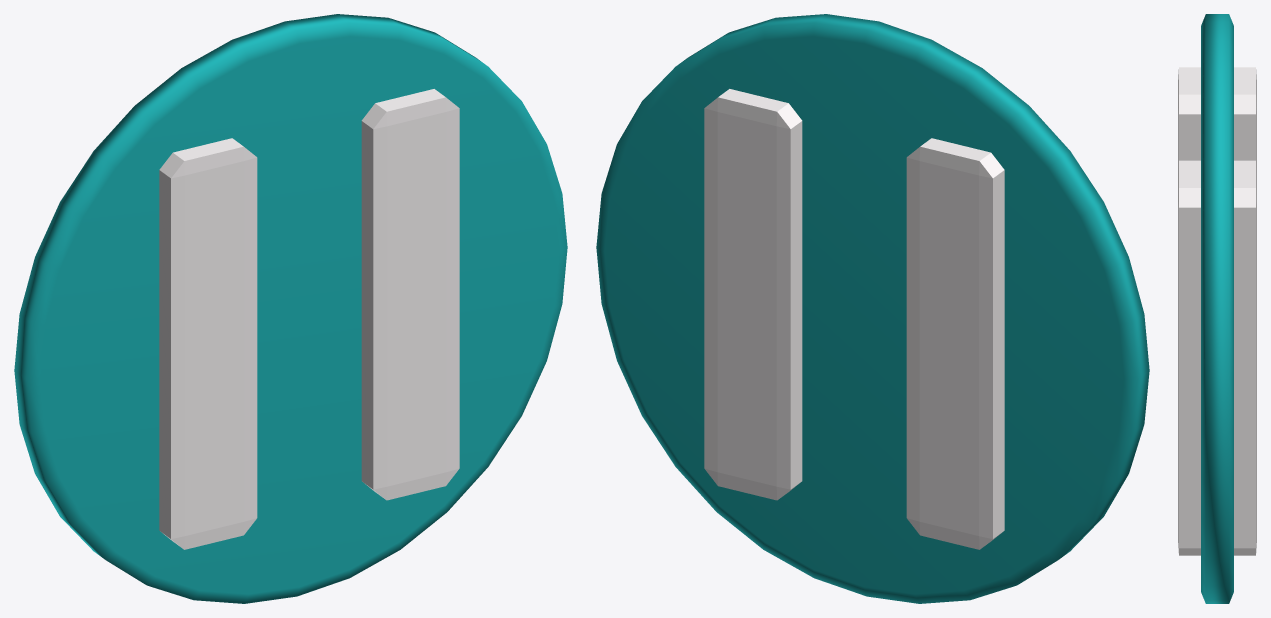
Rendered from Pause.gltf.
3 renders of one model, left to right at view 1: azimuth 30°, elevation 25°; view 2: azimuth 150°, elevation 25°; view 3: azimuth 270°, elevation 25°, orthographic. The views are drawn at different scales.
Parts seen in each view (by area): view 1: Pause; view 2: Pause; view 3: Pause.
Boxes of the visible parts, box(x1,y1,x2,y2) form: Pause: box(14, 14, 567, 603); Pause: box(596, 14, 1149, 603); Pause: box(1178, 14, 1256, 603).
Bounding box in the file's own units: 2.53 × 2.53 × 0.3377.
